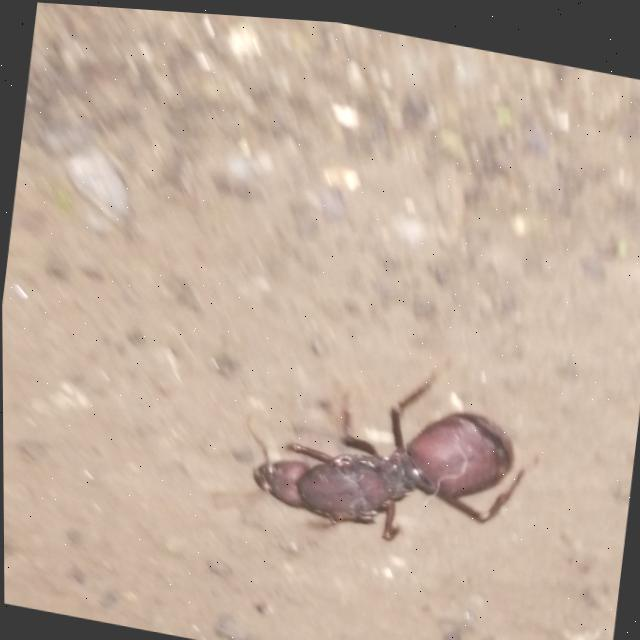Alive-Female-Dealate: (208, 311, 550, 564)
